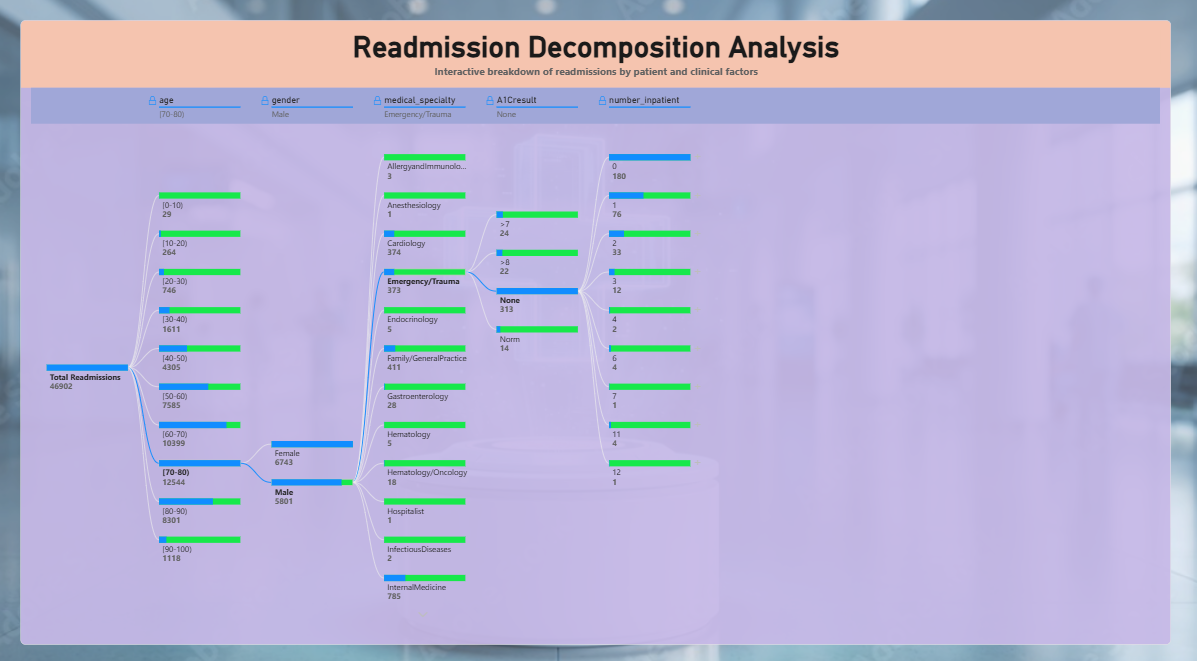

The page's visual inventory and layout, read from the dashboard file:
{"tool":"powerbi","page":{"name":"Readmission Breakdown","canvas":[1920,1080],"ordinal":6},"visuals":[{"type":"decompositionTreeVisual","title":"Readmission Decomposition Analysis","fields":{"Analyze":["diabetic_data.Total Readmissions"],"ExplainBy":["Dim_Age.age","diabetic_data.gender","diabetic_data.medical_specialty","diabetic_data.A1Cresult","diabetic_data.number_inpatient","diabetic_data.race","Dim_Admission_Type.admission_type","diabetic_data.number_emergency","diabetic_data.max_glu_serum","diabetic_data.time_in_hospital"]},"box":[36.8,33.1,1840.5,999.4],"z":0}]}

Visuals, with their boxes in screenshot pixels (x1, y1, x2, y2), scaled from the page's 1920x1080 canvas onto the 1197x661 screenshot:
"Readmission Decomposition Analysis" decompositionTreeVisual: locate(23, 20, 1170, 632)
